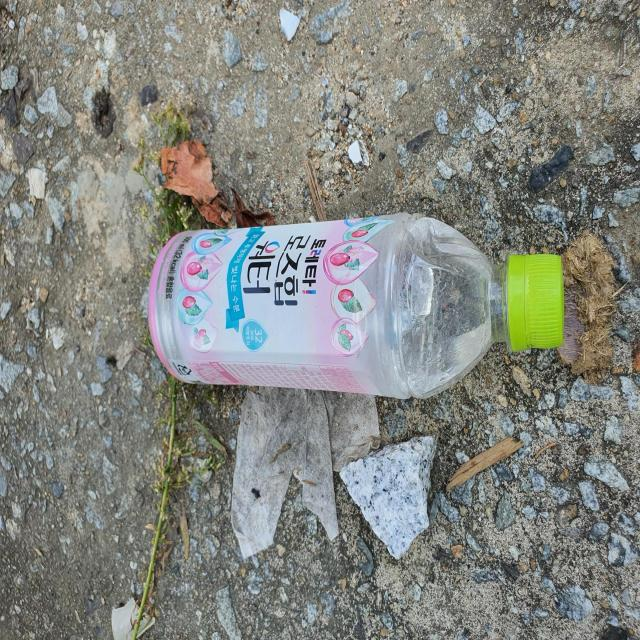plastic: (148, 213, 565, 398)
